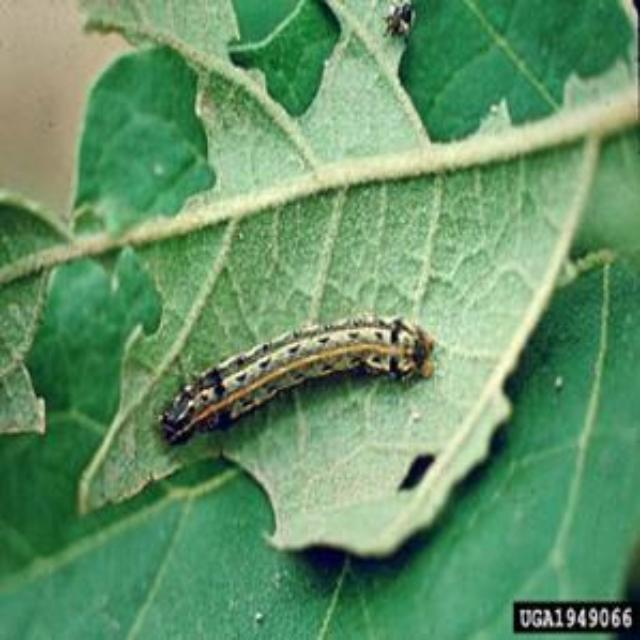Tobacco cutworm: (151, 286, 463, 502)
